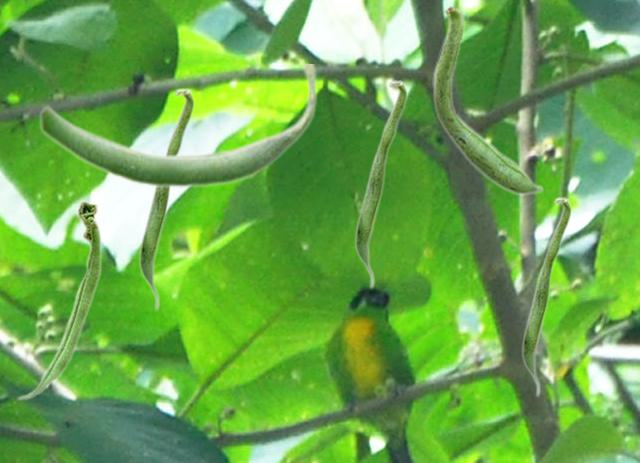french_bean: (38, 64, 317, 189), (432, 3, 543, 195), (16, 199, 101, 400), (138, 87, 194, 311), (354, 79, 407, 289), (521, 196, 571, 397)
